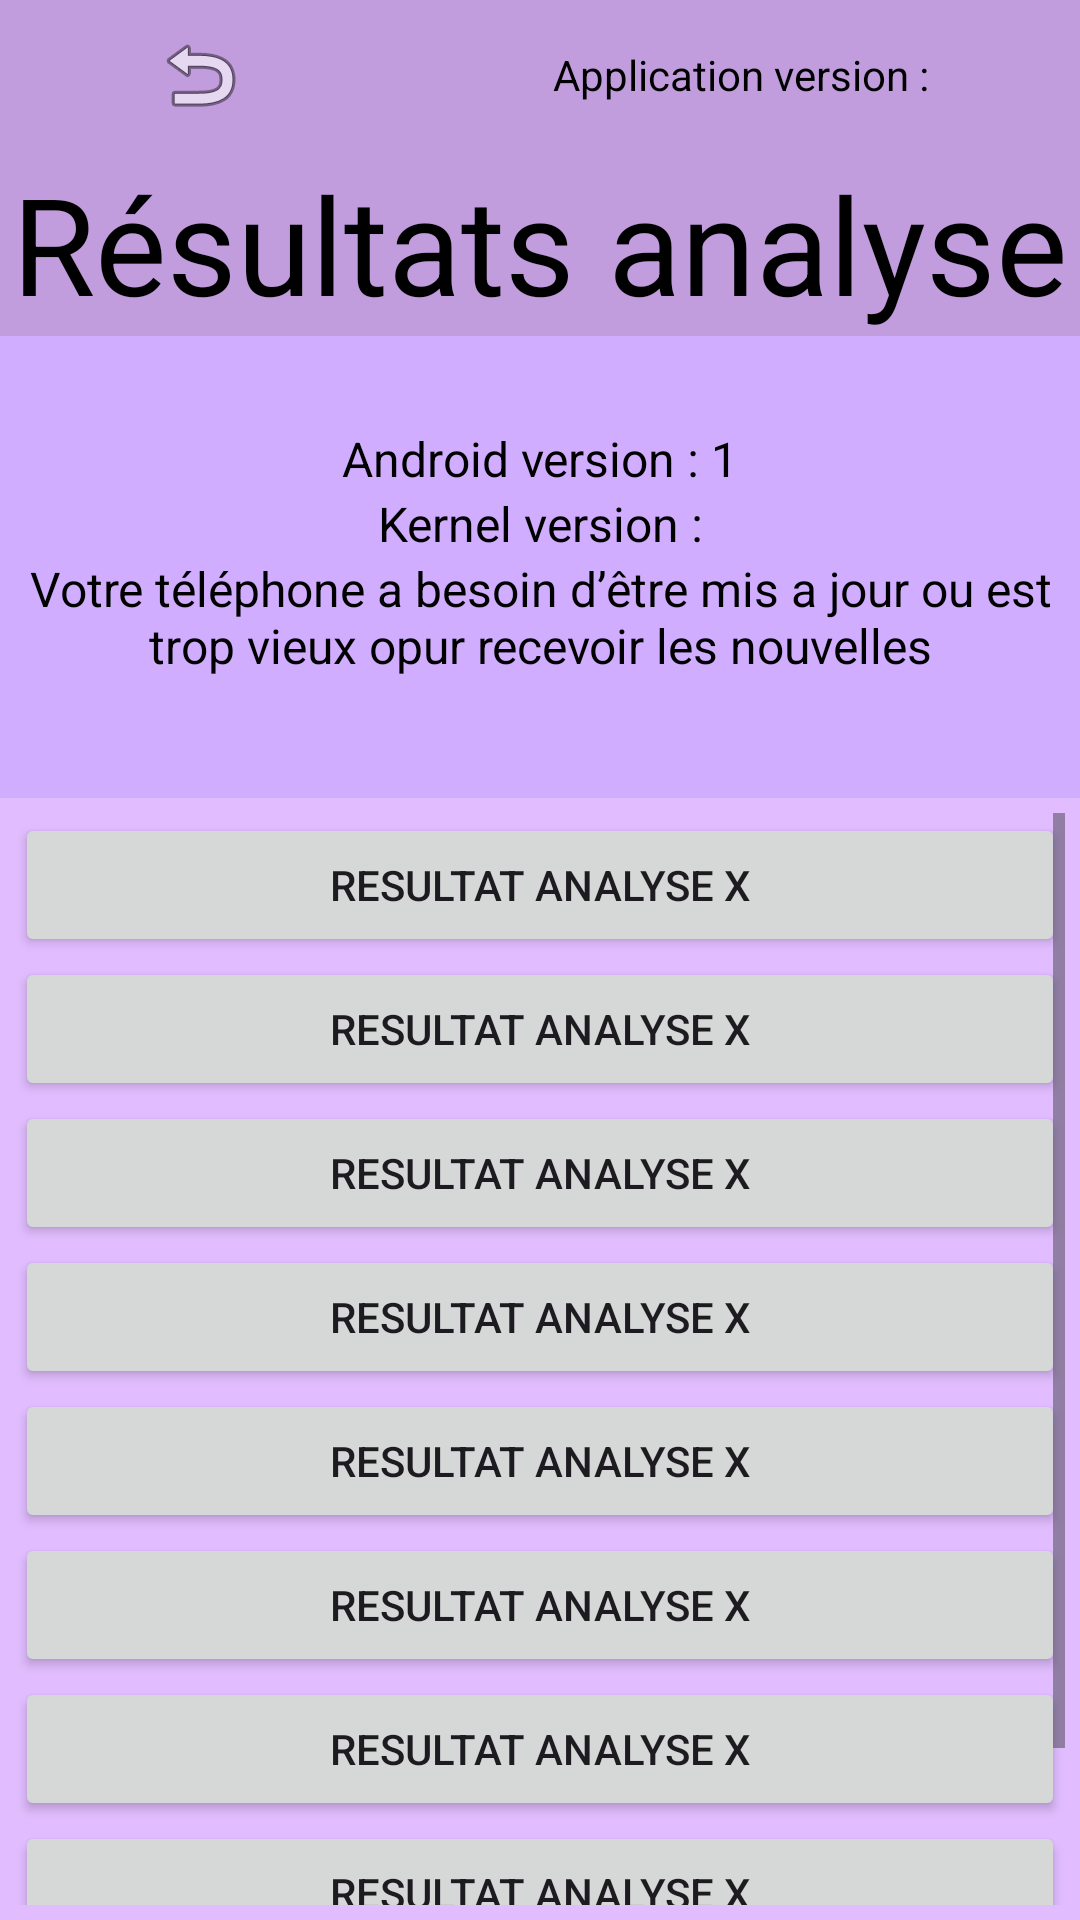

Icons on this 1080px x 1920px Android screen, each with its box as (x1, y1, x2, y2):
revert: (167, 44, 236, 107)
